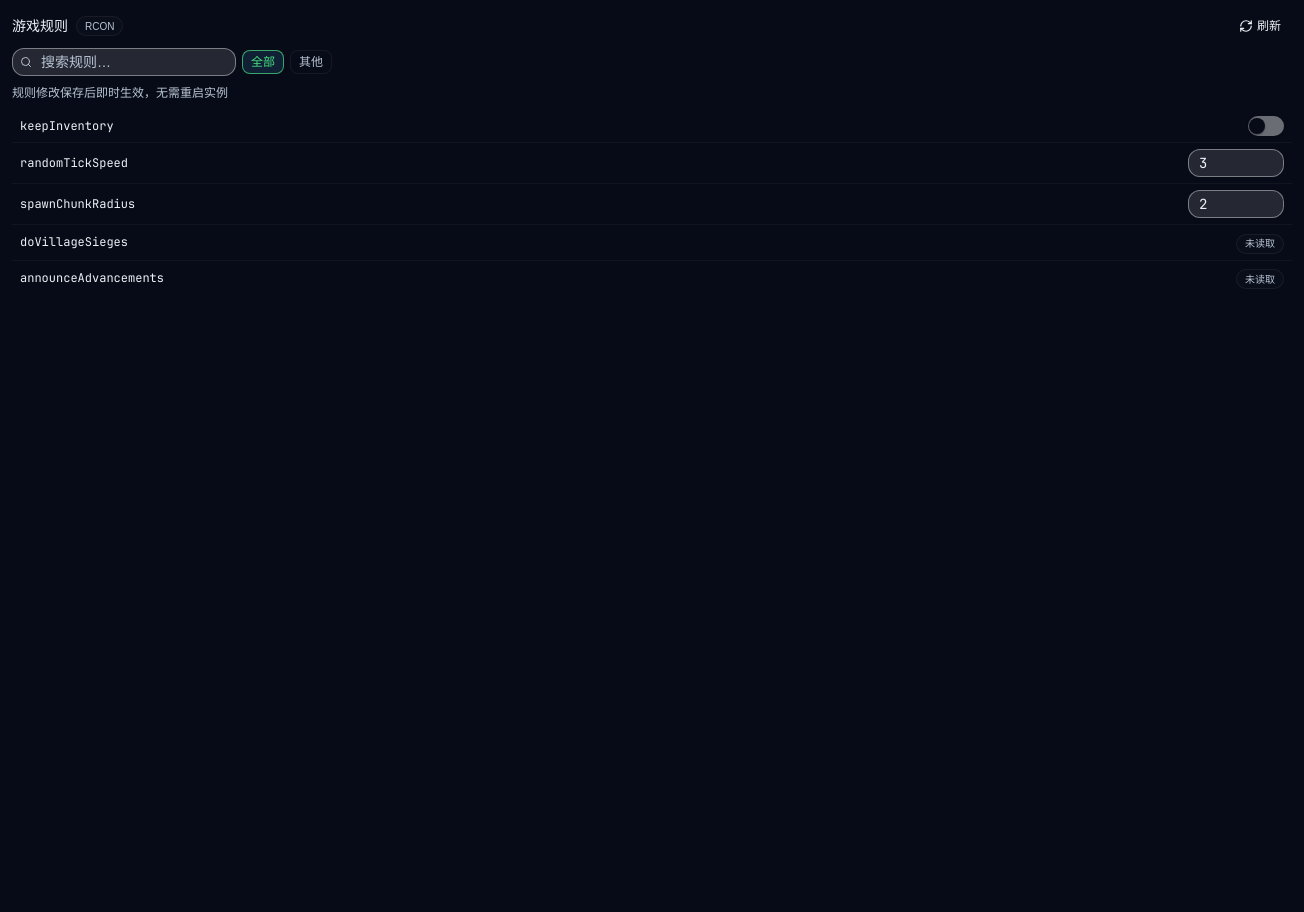
it: GamerulePanel 行级编辑 › bool：点开关 → 保存/取消出现 → 保存下发命令 + 乐观写值 + 保存后刷新一次
The width and height of the screenshot is (1304, 912).
Expected: the text "keepInventory" is shown, [20,118,114,134]
What coordinates should you click on to do the following:
click the switch named "keepInventory 开关"
I would click on:
 (1266, 126)
Its box is [1248,116,1284,136].
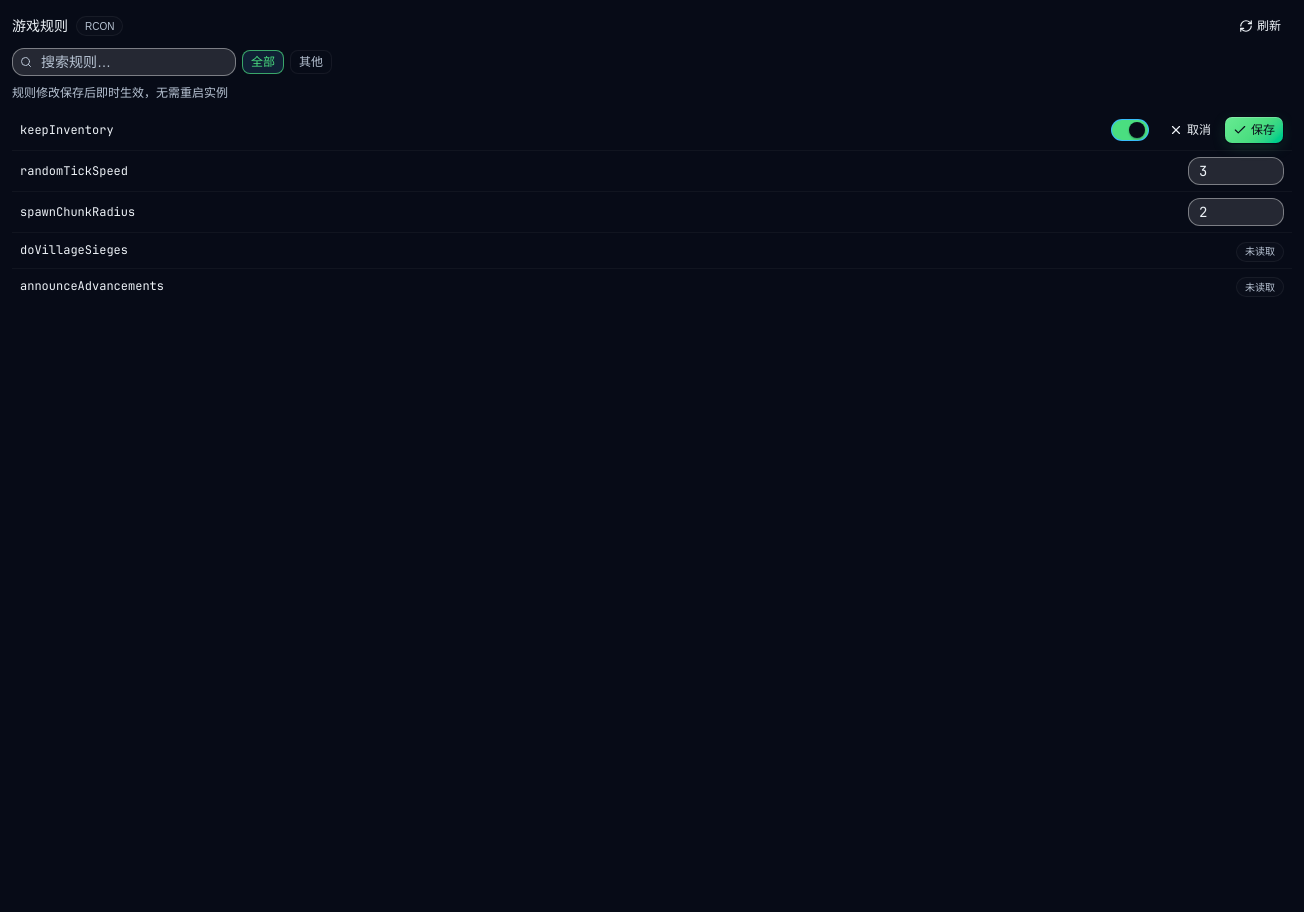
Expected: the button "保存" is shown
What coordinates should you click on to do the following:
click the button "保存"
I would click on:
 (1254, 130)
Its box is [1224,116,1284,144].
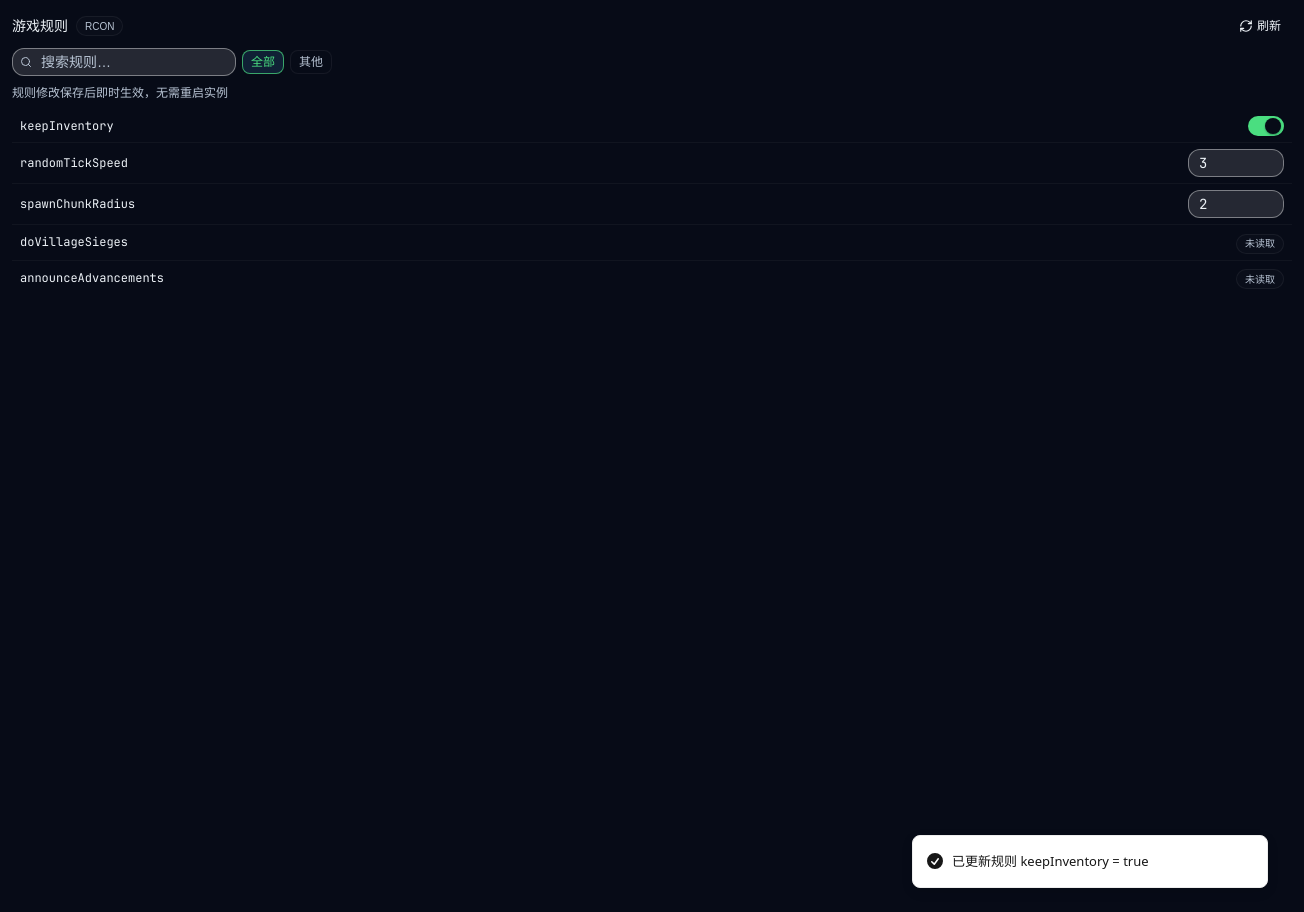
Expected: the text "已更新规则 keepInventory = true" is shown, [952,852,1149,871]
